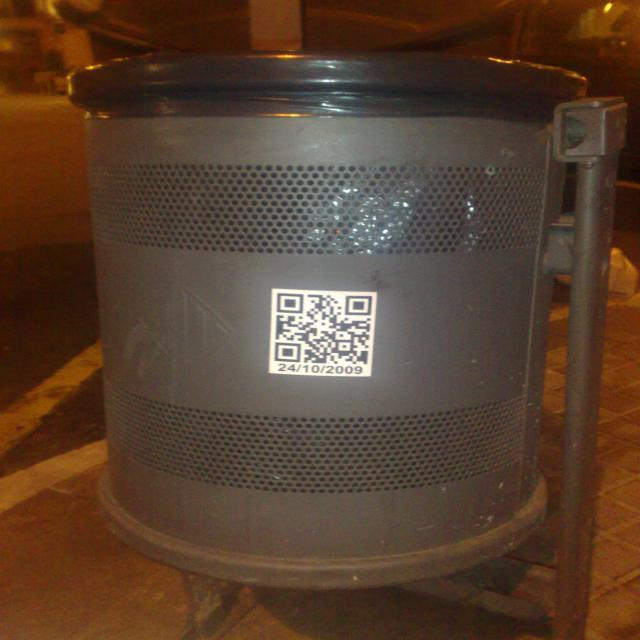qrcode: (276, 294, 373, 365)
